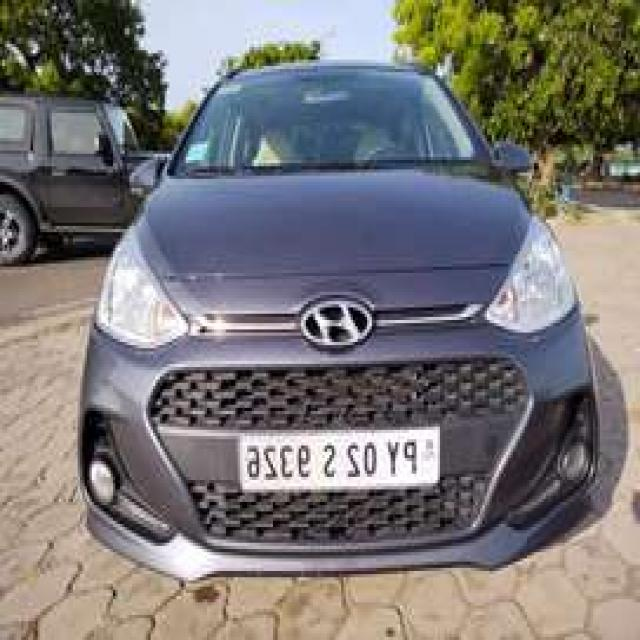license_plate: (230, 420, 446, 500)
